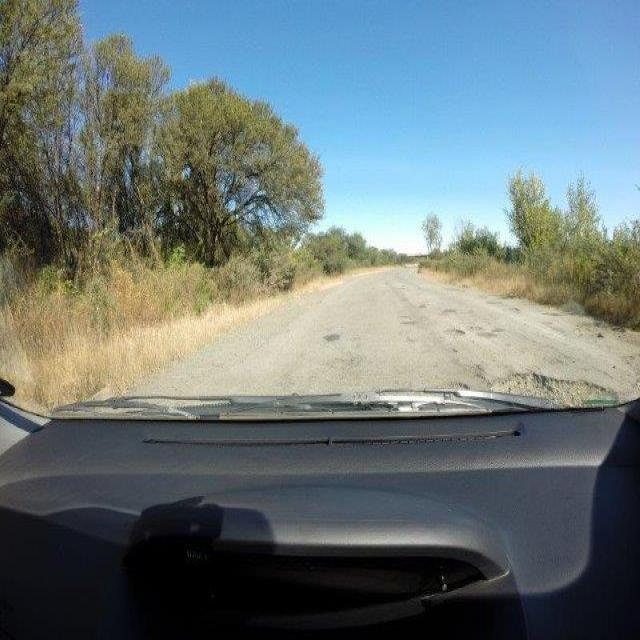lubang: (487, 362, 619, 406), (466, 318, 510, 342), (444, 374, 500, 389), (469, 359, 500, 386), (440, 323, 468, 343), (396, 311, 420, 329), (322, 327, 344, 345), (415, 297, 439, 312), (438, 305, 459, 319), (508, 304, 522, 318)
